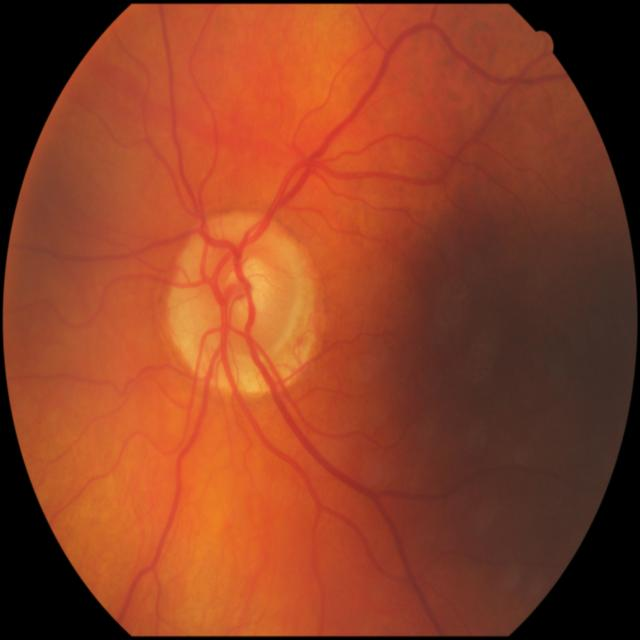OC: (227, 258, 270, 311)
OD: (165, 214, 307, 396)
